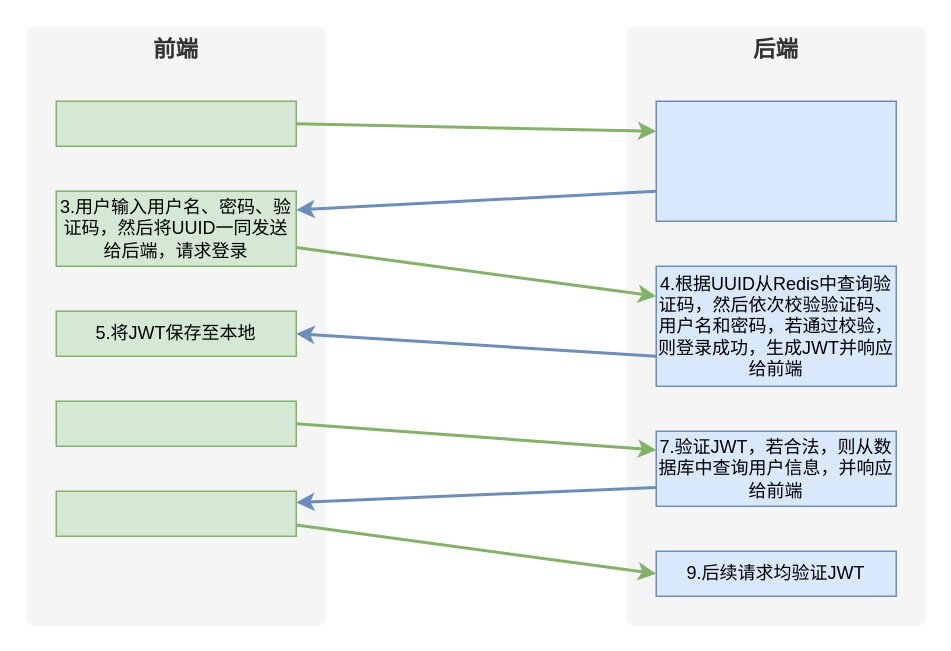
This 951x651 diagram has some shape labels left out. Each missing label, with the centre of its shape:
"1.请求图形验证码" belongs at point 175,123.
"2.生成图形验证码+UUID，以UUID为key，验证码值为value，保存至Redis，并设置TTL，然后响应UUID和验证码图片给前端" belongs at point 775,160.
"6.携带JWT获取个人信息" belongs at point 175,423.
"8.后续请求均携带JWT" belongs at point 175,513.
